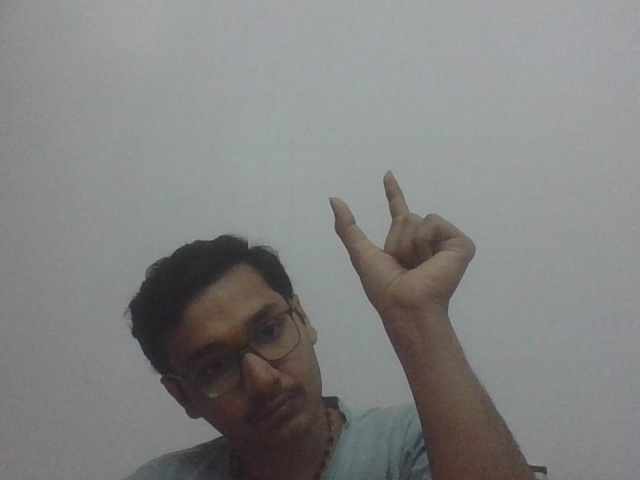U: (325, 165, 489, 319)
